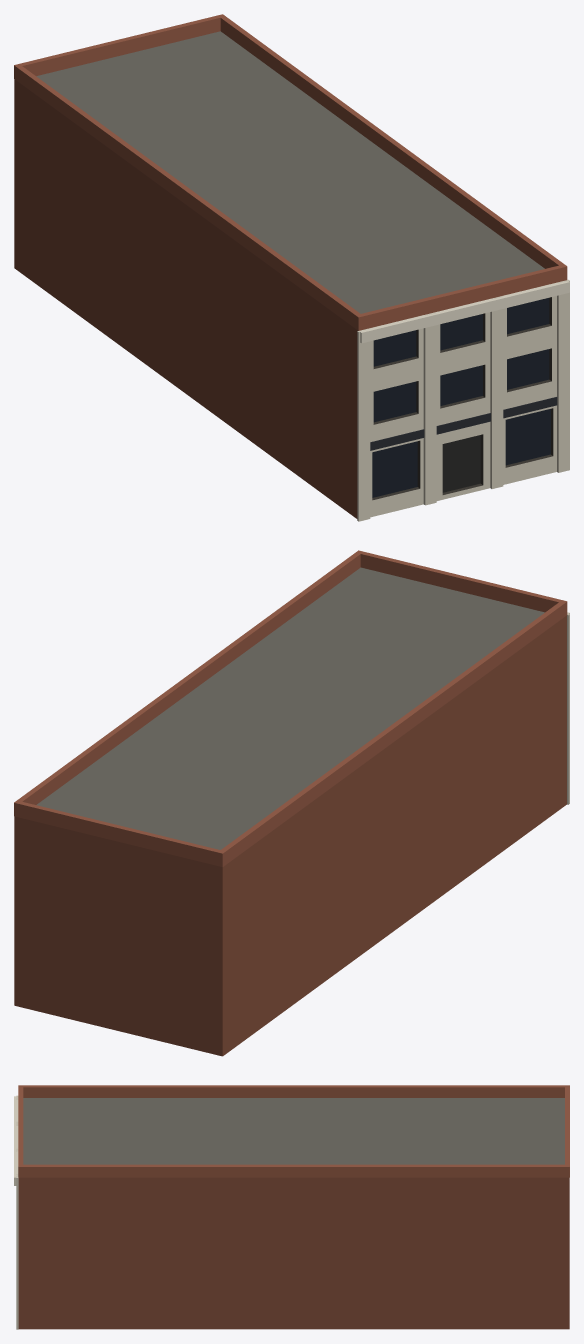
The model's file is bank-1913-b13553.glb.
3 renders of one model, top to bottom at view 1: azimuth 30°, elevation 25°; view 2: azimuth 150°, elevation 25°; view 3: azimuth 270°, elevation 25°, orthographic. The views are drawn at different scales.
Parts seen in each view (by area): view 1: kit-bank-1913-b13553; view 2: kit-bank-1913-b13553; view 3: kit-bank-1913-b13553.
Part boxes in pixels (left/top/right/bottom): kit-bank-1913-b13553: left=14, top=14, right=569, bottom=521; kit-bank-1913-b13553: left=14, top=550, right=569, bottom=1056; kit-bank-1913-b13553: left=14, top=1085, right=569, bottom=1329.
Bounding box in the file's own units: 14.7 × 13.5 × 41.87.
